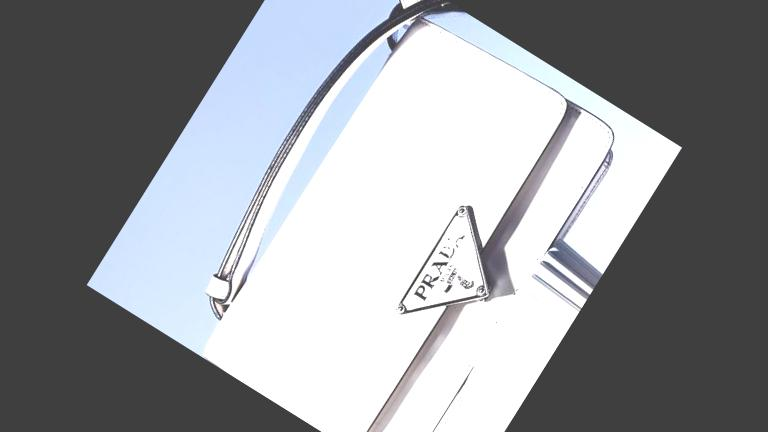PRADA: (393, 201, 524, 349)
